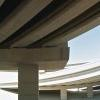Bridge: (2, 2, 93, 73)
